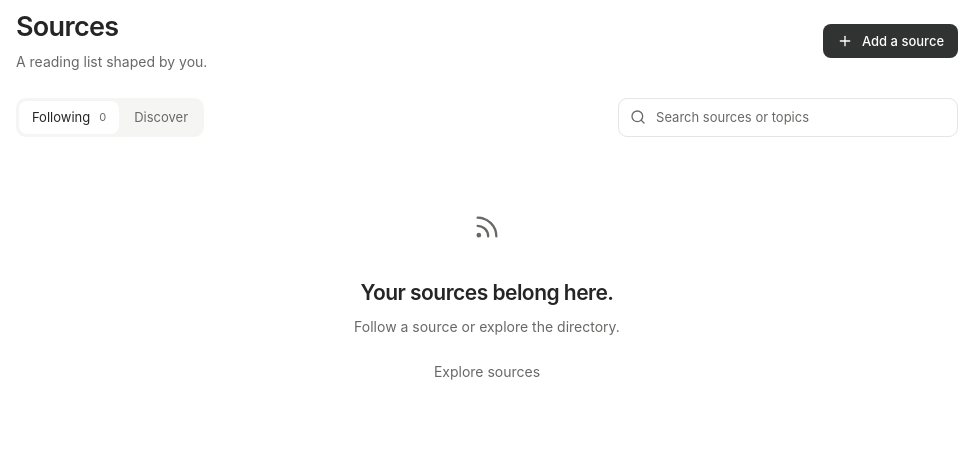
ignores a late directory response after the user changes the query
Click the button "Discover".
click(161, 117)  # box [121,101,201,134]
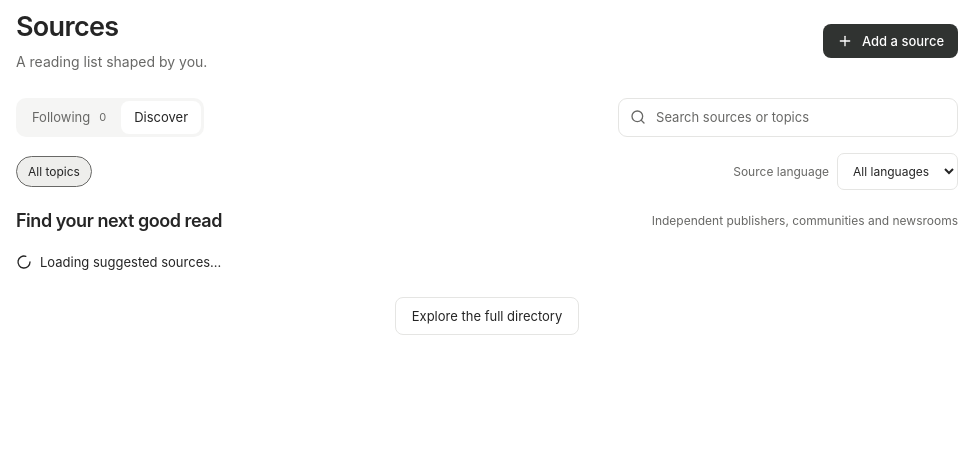
Type "old" into the field labelled "Search sources or topics".
click(801, 117); type("old")  # box [656,101,946,133]
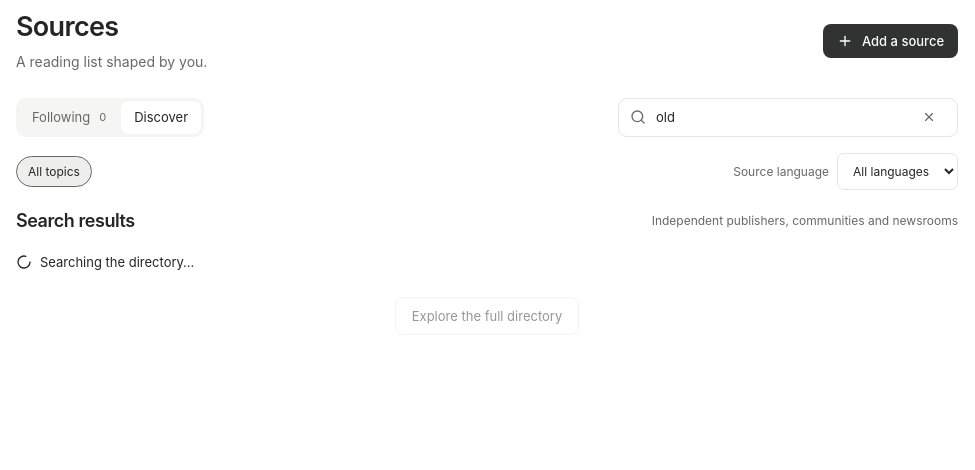
Replace the text in the field named "Search sources or topics" with "new" at (779, 117), box [656,101,902,133]
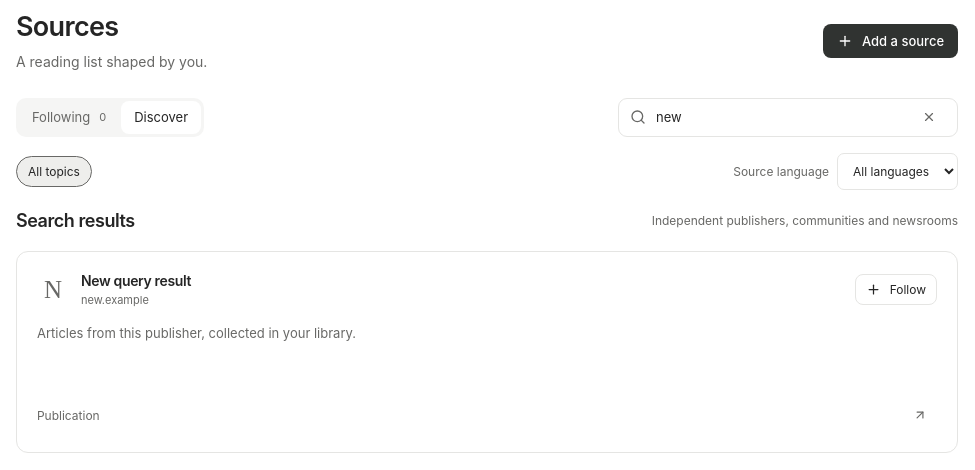
Expected: the heading "New query result" is shown, [81,272,191,289]
